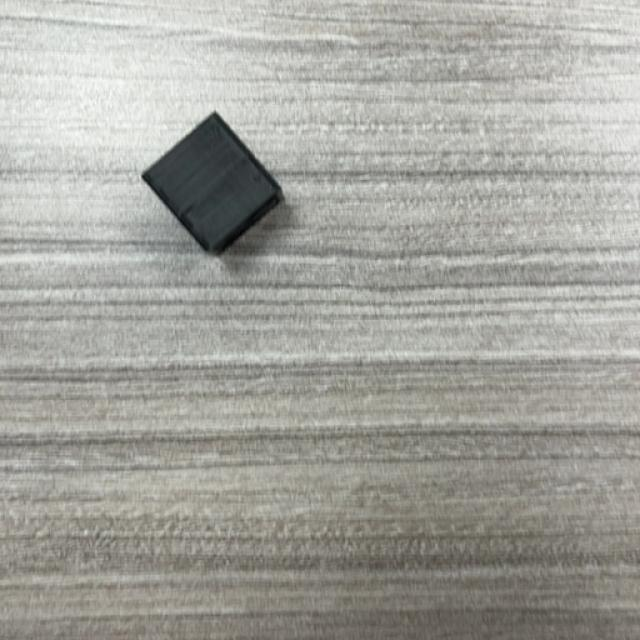Negro: (139, 114, 286, 258)
